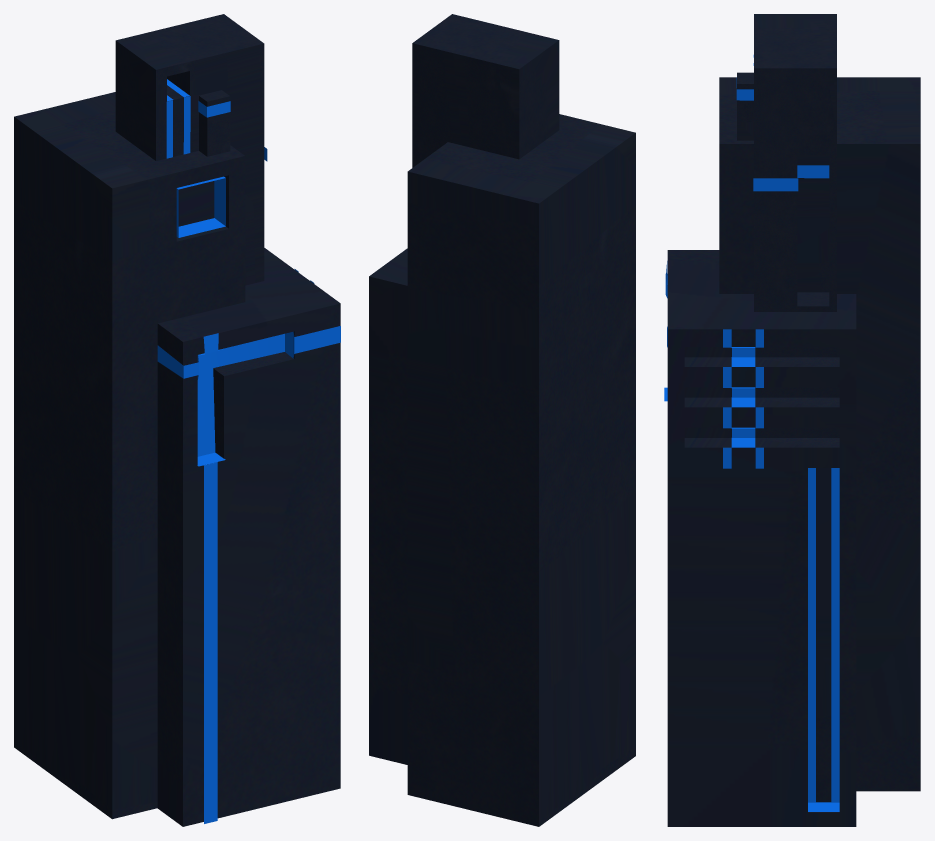
The model's file is Blue Building.fbx.
The picture shows the model from 3 angles, left to right: view 1: azimuth 30°, elevation 25°; view 2: azimuth 150°, elevation 25°; view 3: azimuth 270°, elevation 25°; orthographic projection. The views are drawn at different scales.
Parts seen in each view (by area): view 1: Pink Building, Neon4; view 2: Pink Building; view 3: Pink Building, Neon4.
Boxes of the visible parts, <box> form: Pink Building: <box>14,14,340,826</box>; Neon4: <box>157,79,340,823</box>; Pink Building: <box>369,14,635,826</box>; Pink Building: <box>667,14,920,826</box>; Neon4: <box>664,55,839,811</box>.
Bounding box in the file's own units: 36.55 × 124 × 38.7.
